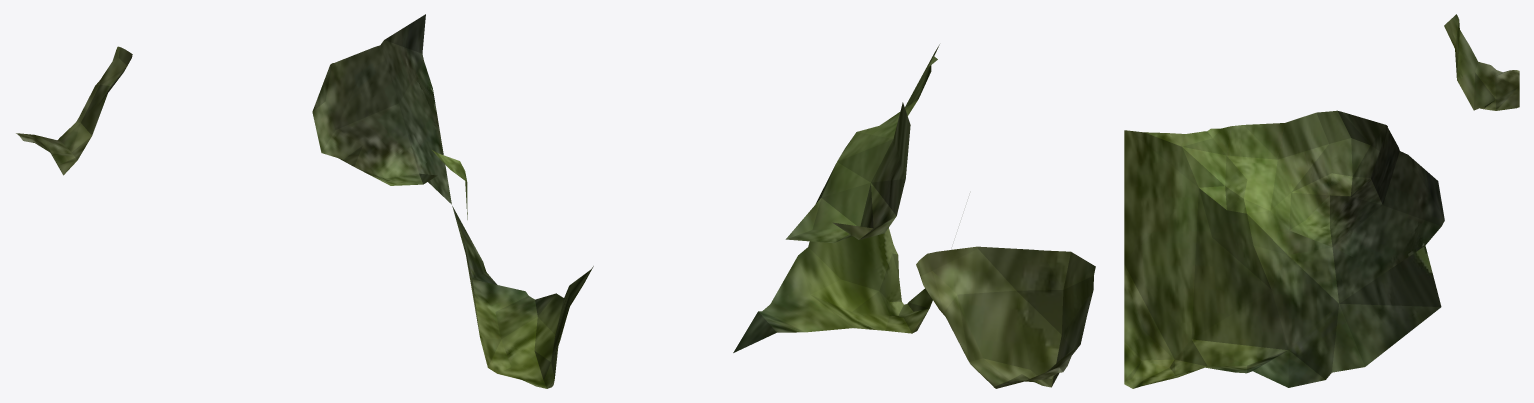
3 views of the same model, side by side, from view 1: azimuth 30°, elevation 25°; view 2: azimuth 150°, elevation 25°; view 3: azimuth 270°, elevation 25° (orthographic). The views are drawn at different scales.
Size of the model in its own units: 2.95 by 1.87 by 2.95.
Materials: 2 (2 with a texture image).
